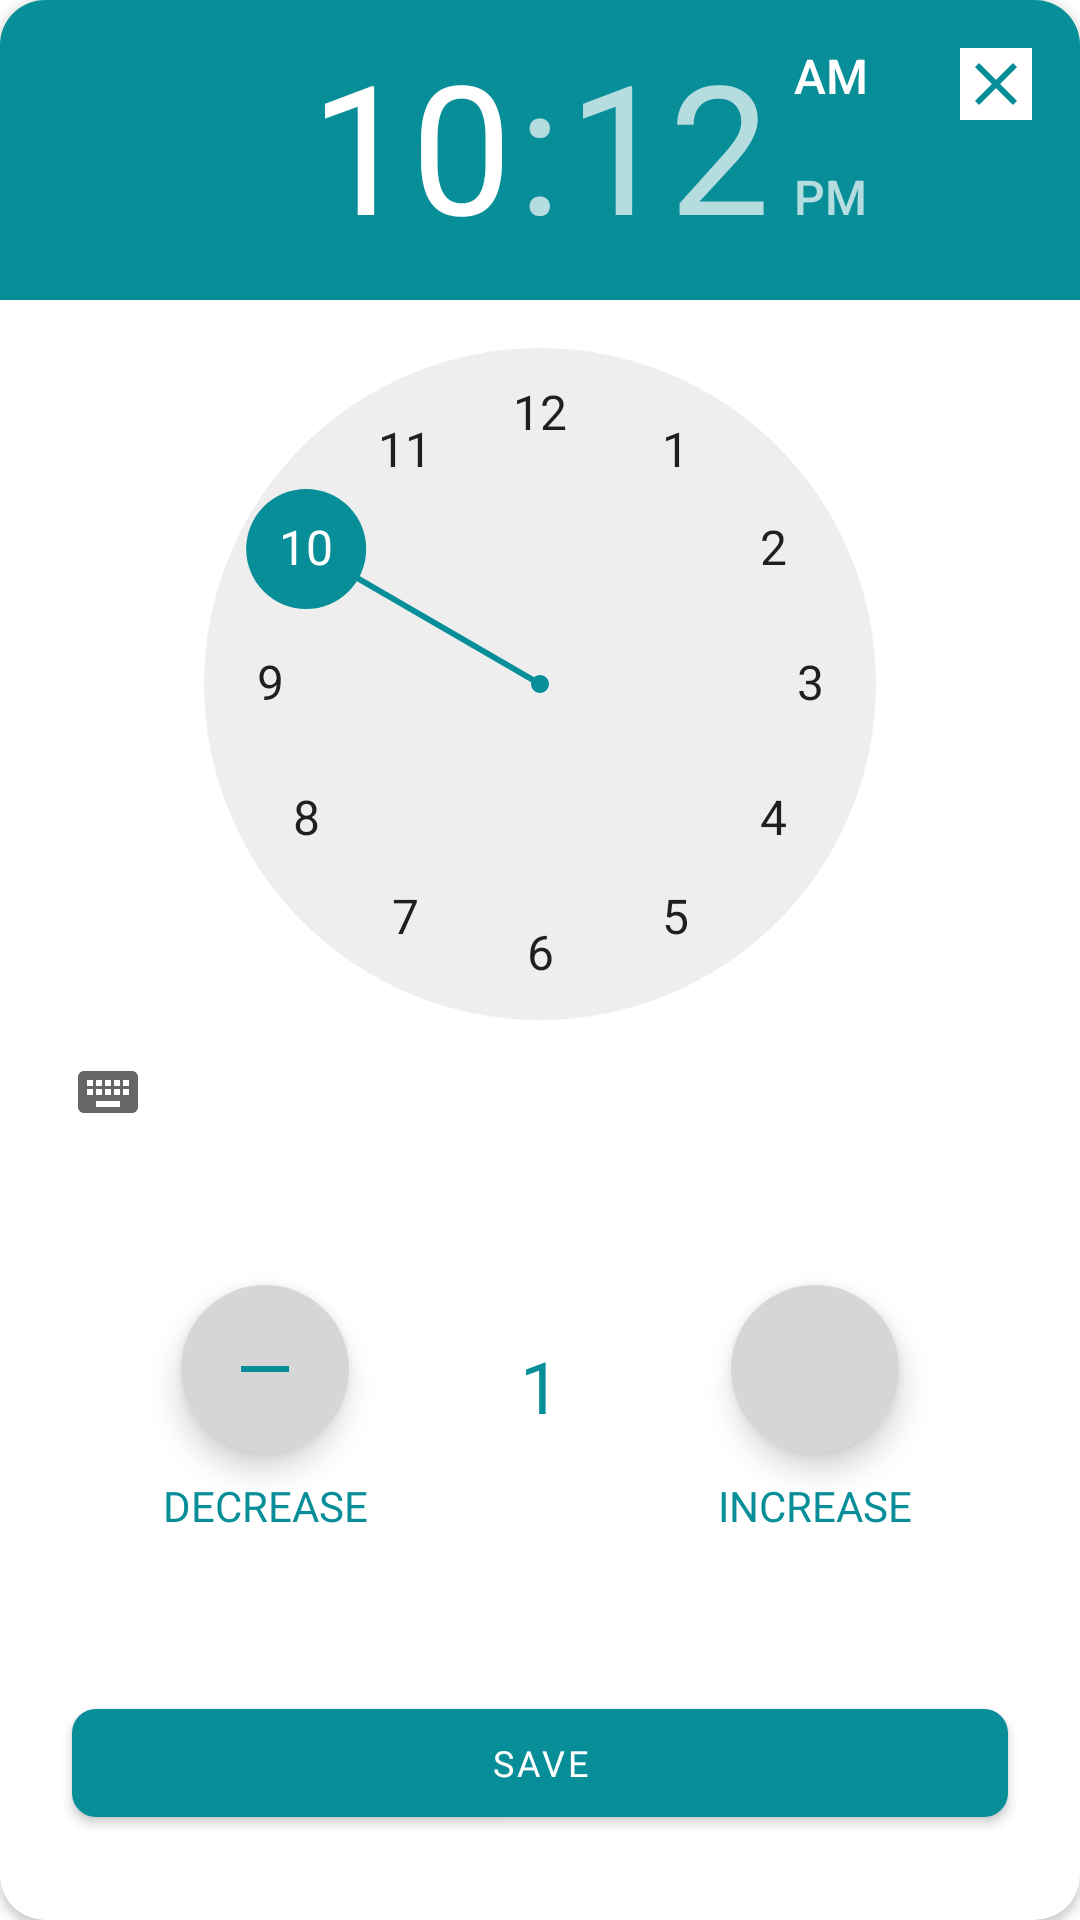

Where to tap for icons on this 1080w x 1920h app screen, as [x,y]:
close: [996,84]
minus: [265,1369]
